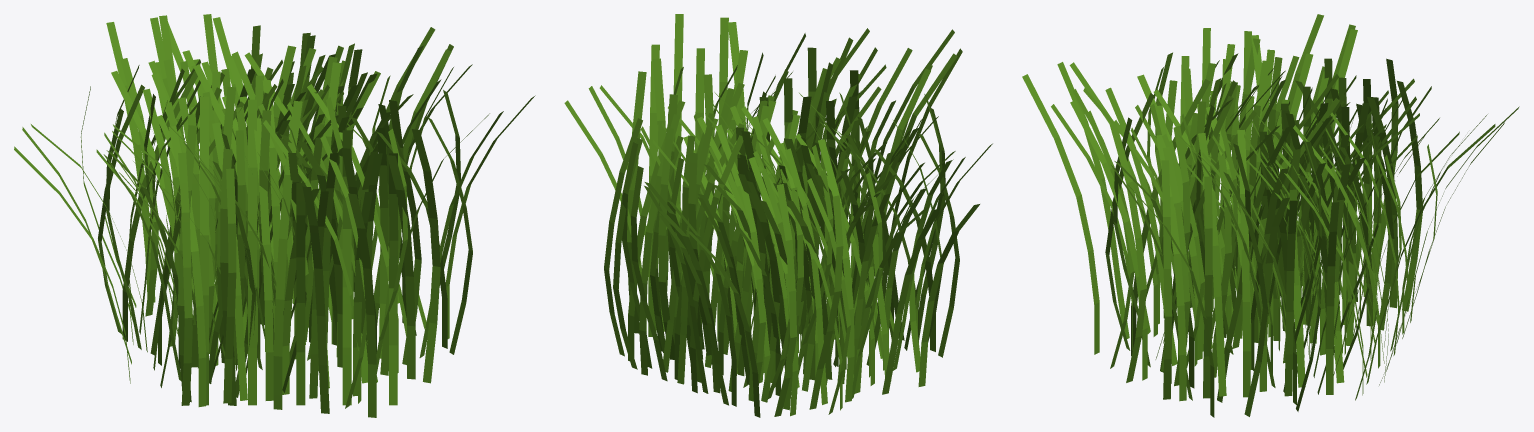
Rendered from Grass.fbx.
The picture shows the model from 3 angles, left to right: view 1: azimuth 30°, elevation 25°; view 2: azimuth 150°, elevation 25°; view 3: azimuth 270°, elevation 25°; orthographic projection. The views are drawn at different scales.
Parts seen in each view (by area): view 1: Plane.001; view 2: Plane.001; view 3: Plane.001.
Part boxes in pixels (bbox=[...]): Plane.001: bbox=[14, 14, 535, 417]; Plane.001: bbox=[564, 14, 992, 417]; Plane.001: bbox=[1022, 14, 1519, 417].
Bounding box in the file's own units: 81.92 × 49.55 × 87.09.
